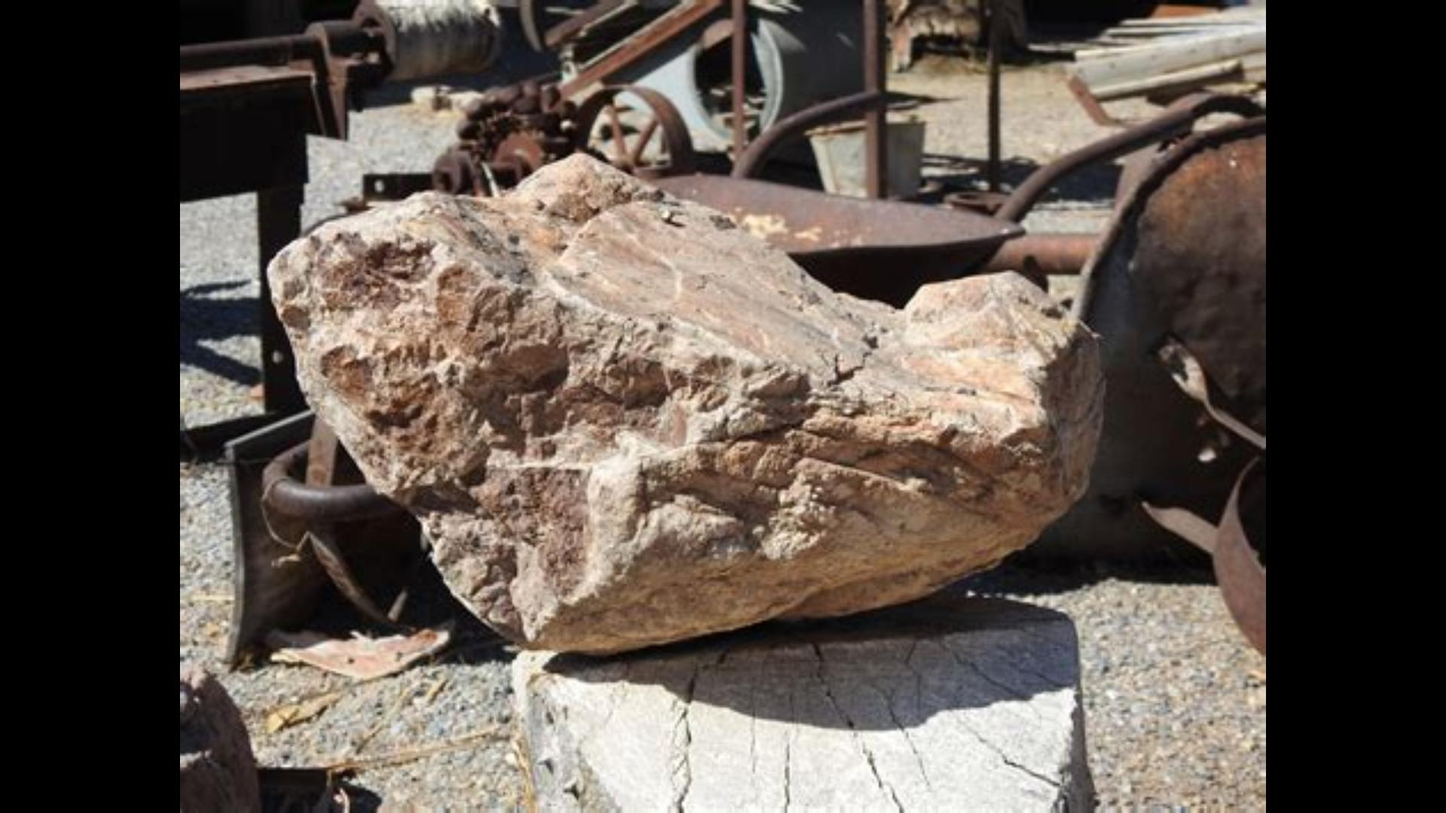rock: (269, 156, 1094, 648)
